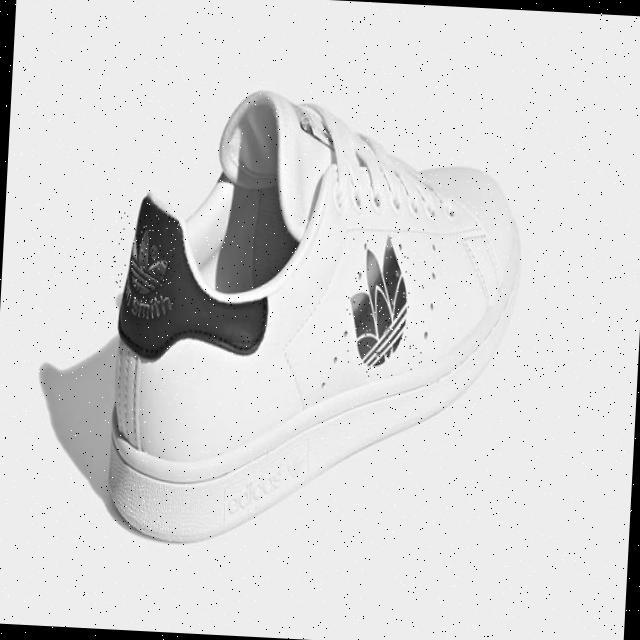Adidas: (340, 226, 429, 380), (109, 211, 180, 304)
